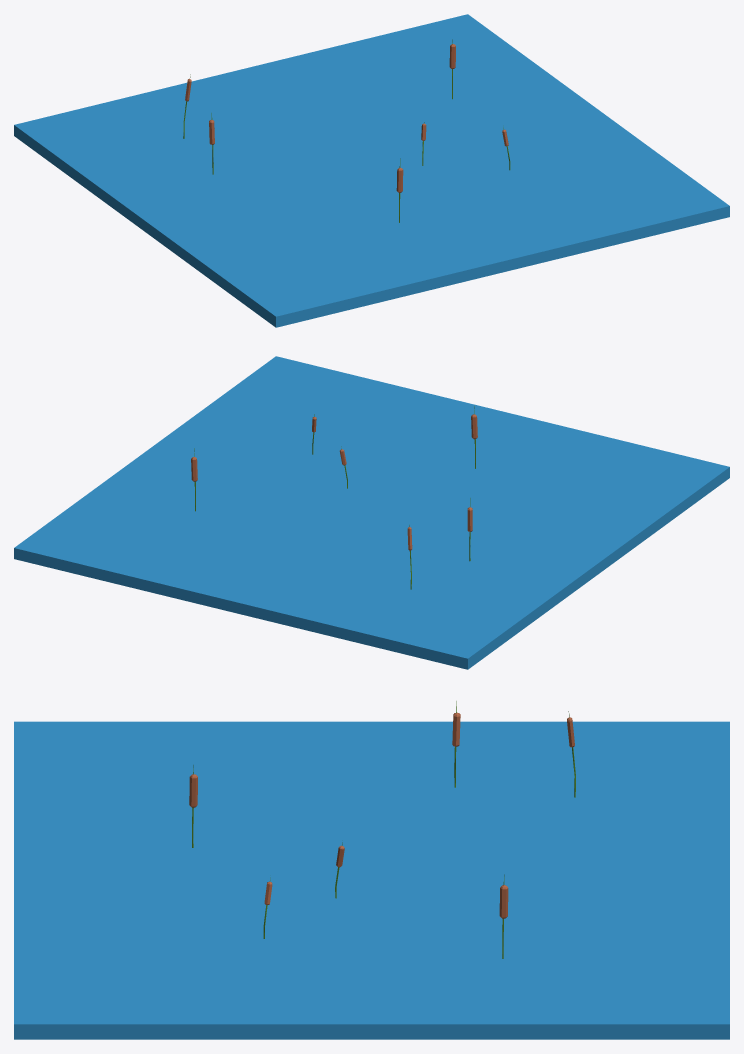
The model's file is pond.fbx.
The picture shows the model from 3 angles, top to bottom: view 1: azimuth 30°, elevation 25°; view 2: azimuth 150°, elevation 25°; view 3: azimuth 270°, elevation 25°; orthographic projection. The views are drawn at different scales.
Visible parts, largest first — view 1: Water_Flat_205; view 2: Water_Flat_205; view 3: Water_Flat_205.
Boxes of the visible parts, box(x1,y1,x2,y2) form: Water_Flat_205: box(14, 14, 729, 327); Water_Flat_205: box(14, 356, 729, 669); Water_Flat_205: box(14, 721, 729, 1039).
Bounding box in the file's own units: 30 × 4.94 × 30.
